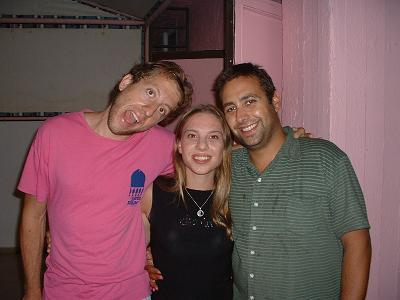person: (19, 61, 314, 300)
